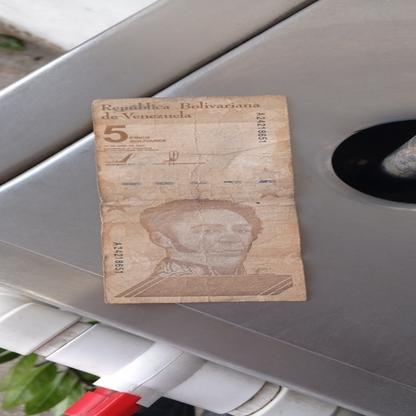five-front-vef: (90, 94, 307, 304)
